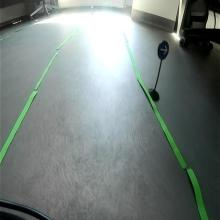right: (157, 39, 170, 61)
